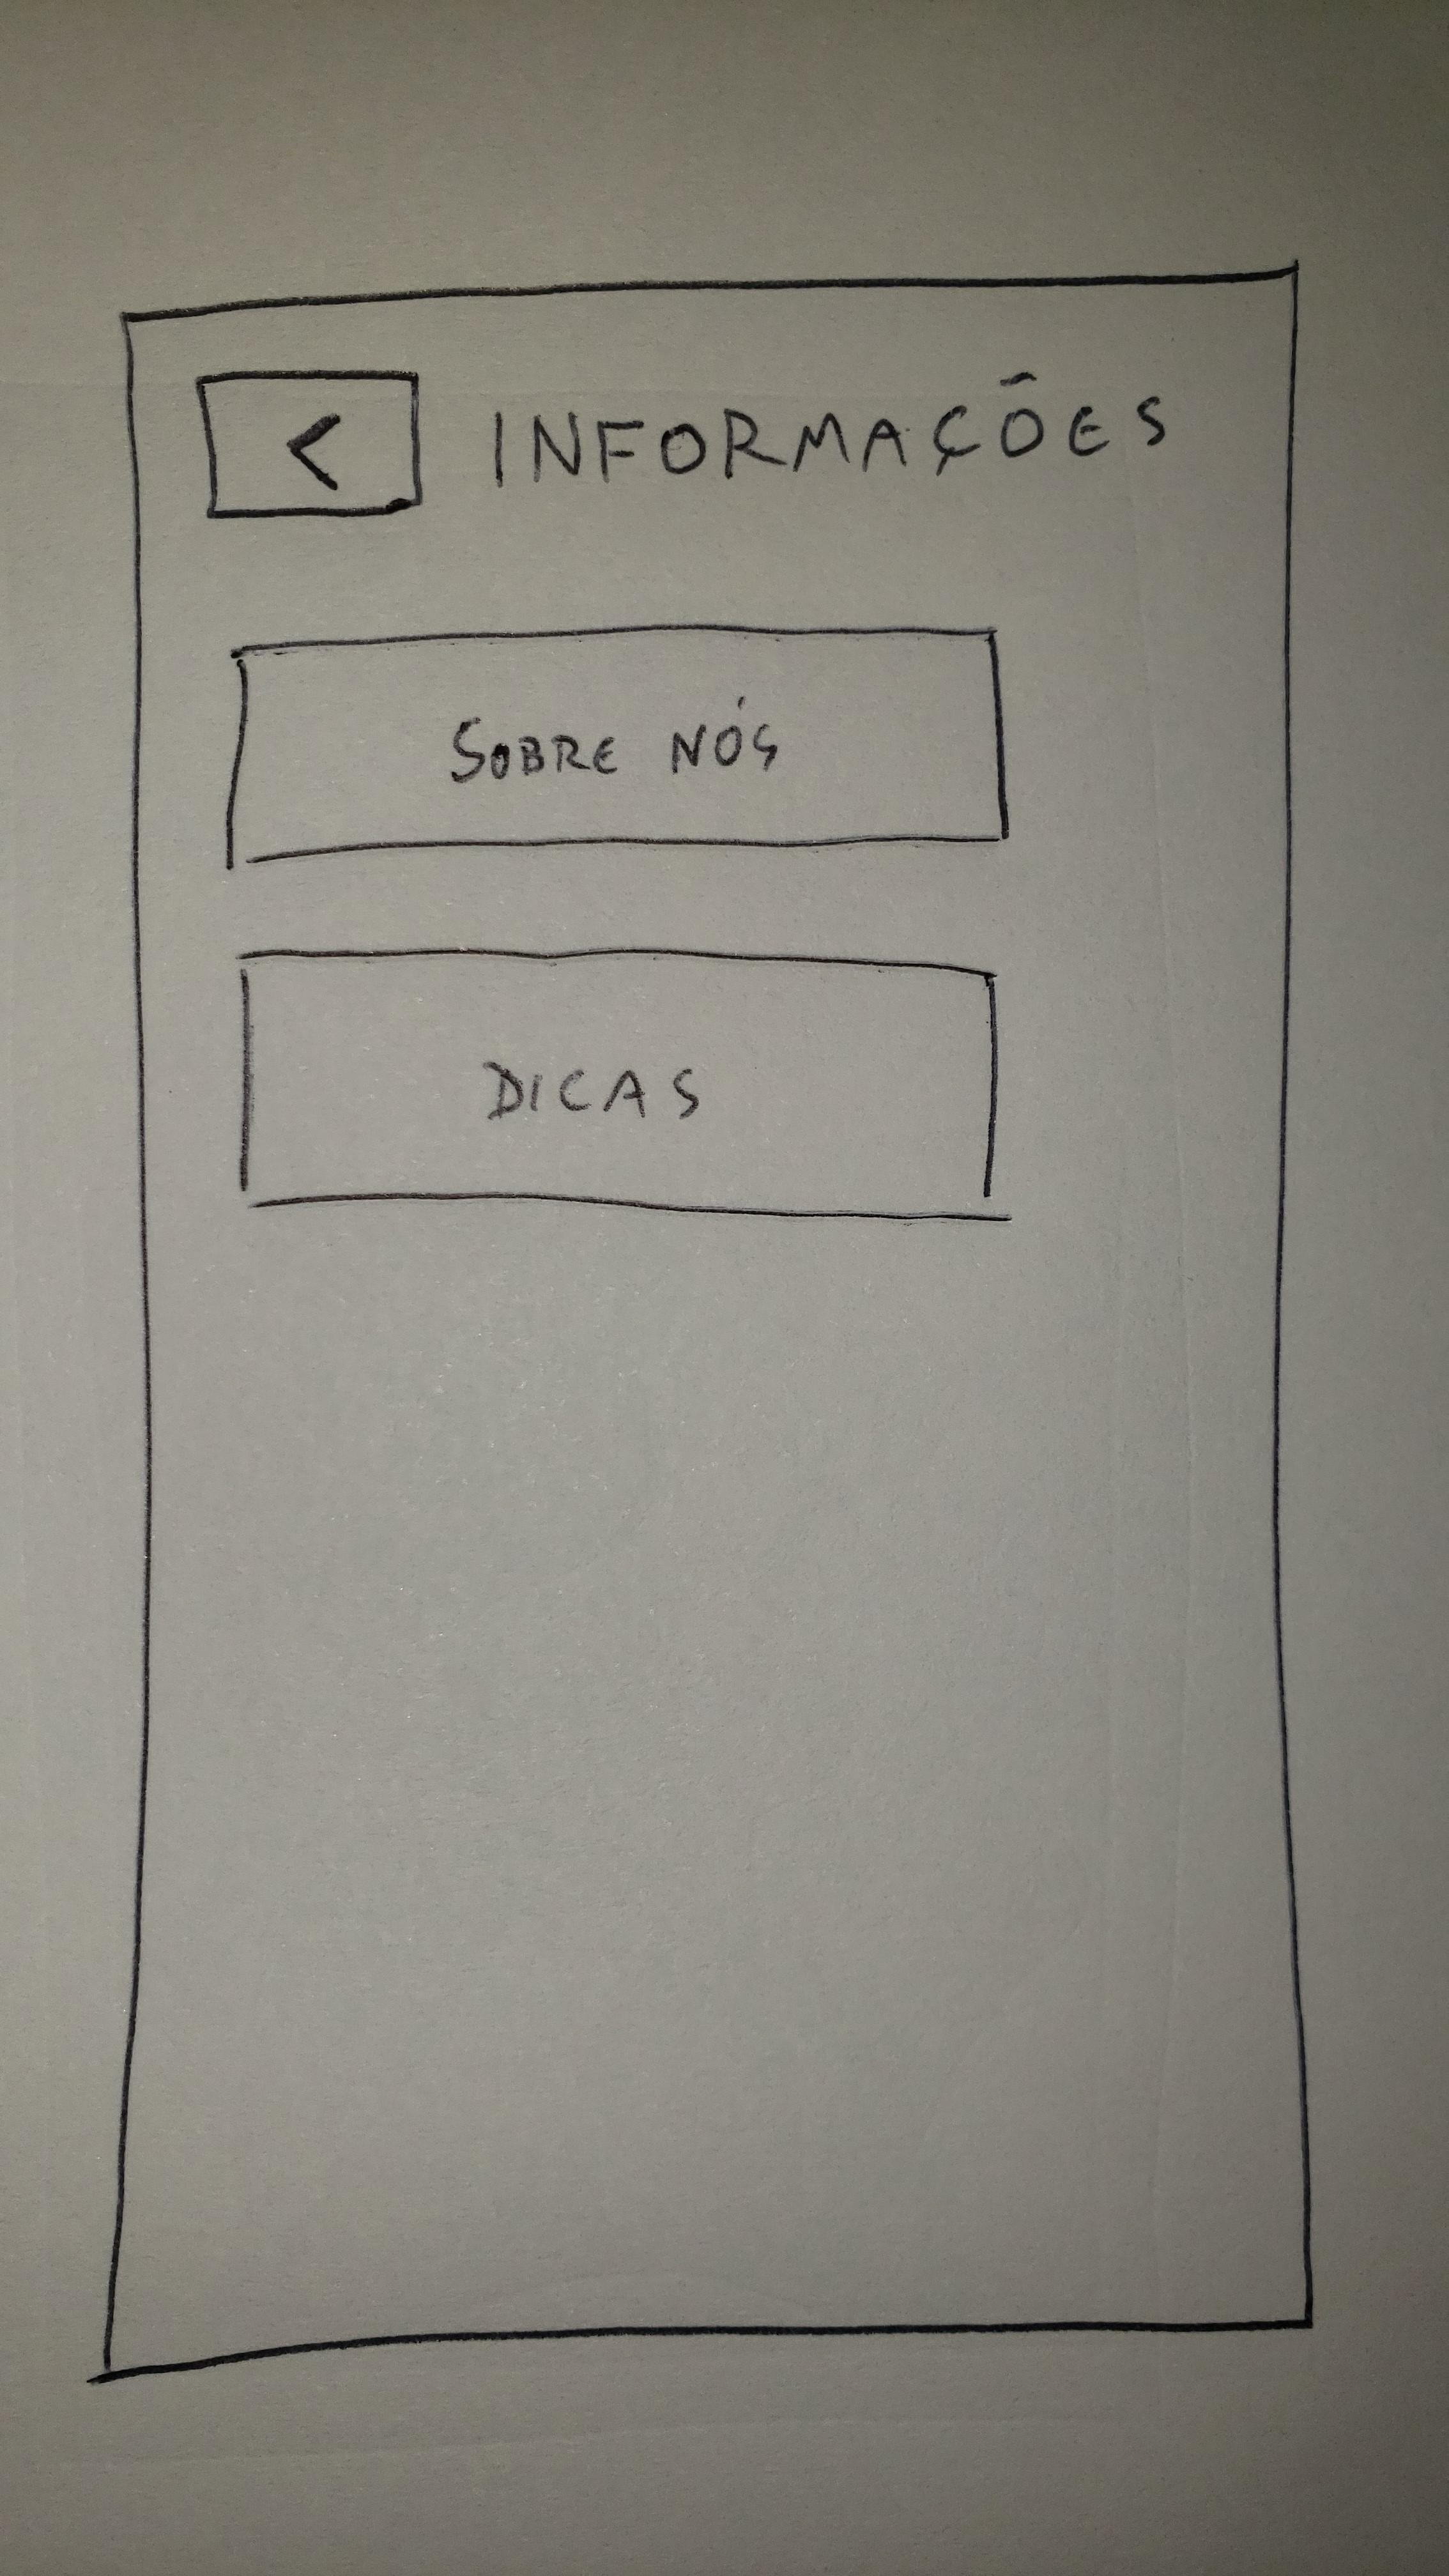Button: (235, 950, 1003, 1223), (223, 623, 1010, 876), (191, 366, 428, 518)
Label: (485, 361, 1177, 488)
Screen: (103, 260, 1311, 2380)
